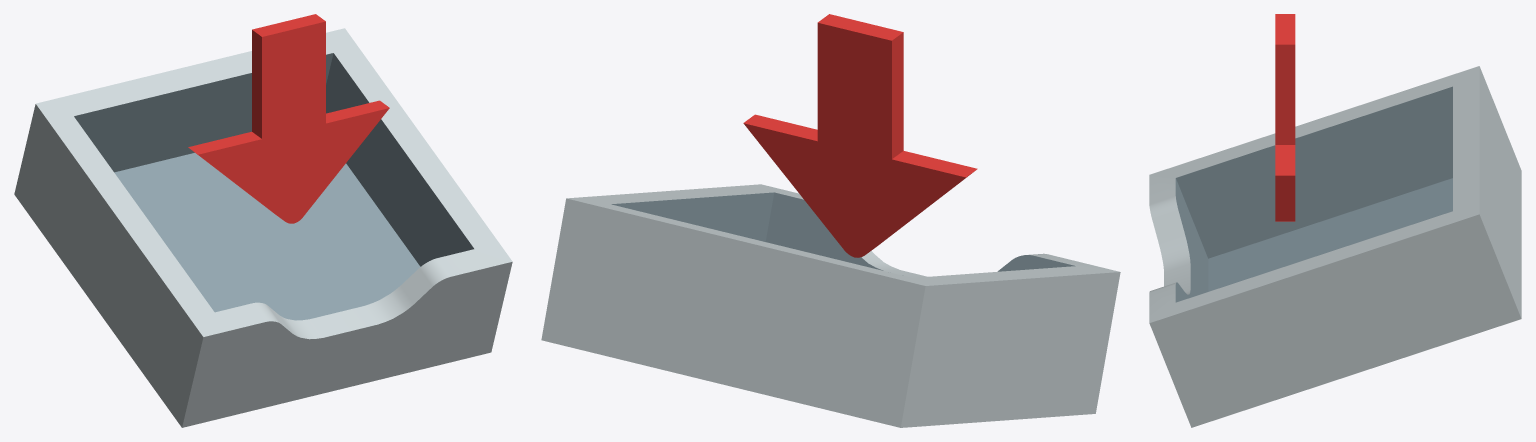
File: inbox_tray.glb
3 renders of one model, left to right at view 1: azimuth 30°, elevation 25°; view 2: azimuth 150°, elevation 25°; view 3: azimuth 270°, elevation 25°, orthographic. The views are drawn at different scales.
Parts seen in each view (by area): view 1: Cube.967, Cube.968; view 2: Cube.967, Cube.968; view 3: Cube.967, Cube.968.
Part boxes in pixels (left/top/right/bottom): Cube.967: left=14, top=28, right=512, bottom=427; Cube.968: left=188, top=14, right=389, bottom=223; Cube.967: left=541, top=184, right=1120, bottom=427; Cube.968: left=743, top=14, right=977, bottom=257; Cube.967: left=1149, top=66, right=1521, bottom=427; Cube.968: left=1275, top=14, right=1295, bottom=221.
Size of the model in its own units: 2 by 2.04 by 2.12.
Materials: 1 (1 with a texture image).
